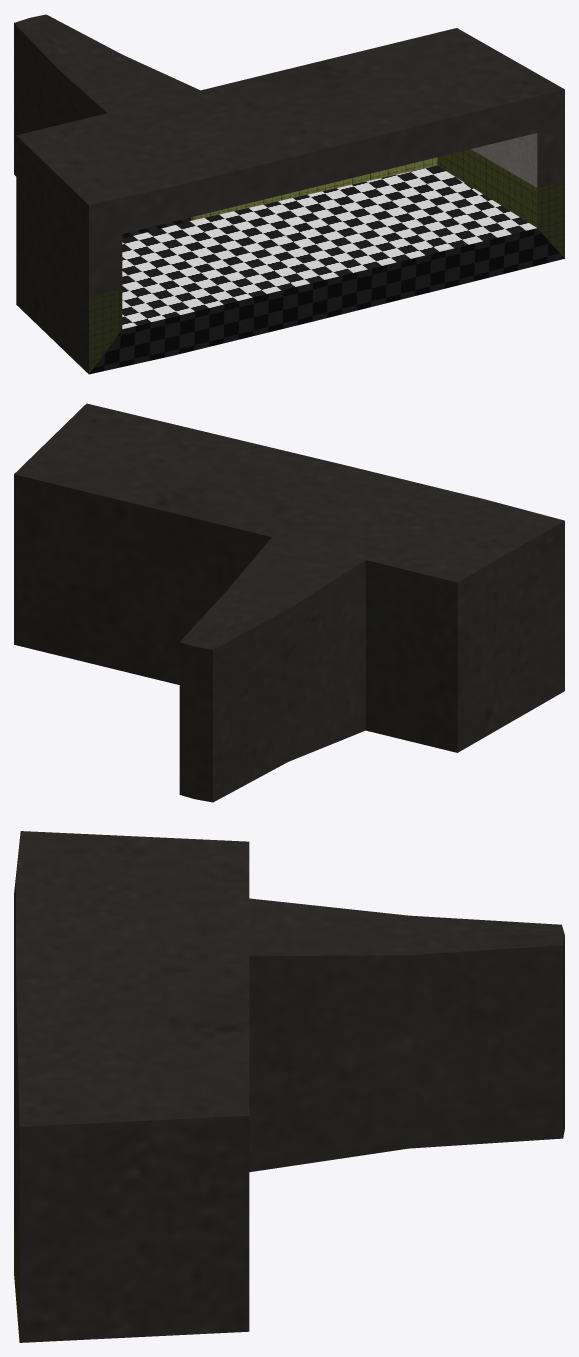
File: Room2.fbx
3 views of the same model, one above another, from view 1: azimuth 30°, elevation 25°; view 2: azimuth 150°, elevation 25°; view 3: azimuth 270°, elevation 25° (orthographic). The views are drawn at different scales.
Parts seen in each view (by area): view 1: room_2; view 2: room_2; view 3: room_2.
Boxes of the visible parts, bbox=[...] form: room_2: bbox=[14, 14, 564, 374]; room_2: bbox=[14, 403, 564, 802]; room_2: bbox=[14, 831, 564, 1342].
Bounding box in the file's own units: 1031 × 351 × 811.
6 materials, 6 textured.
